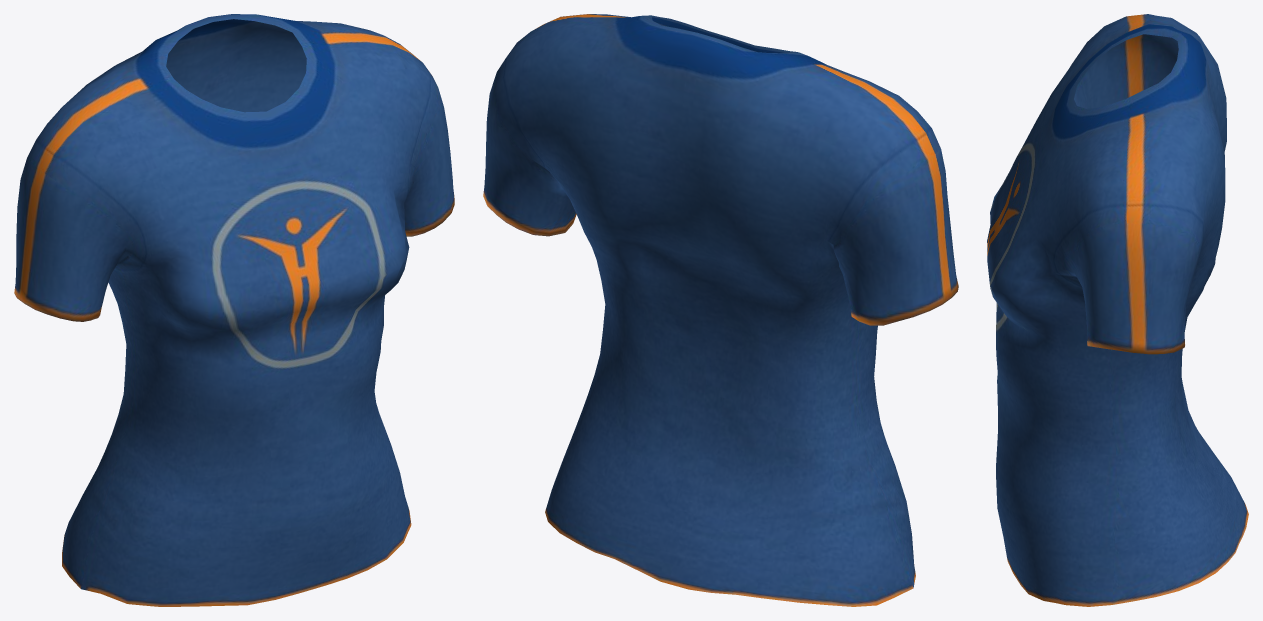
File: top_graphic_tee.gltf
The picture shows the model from 3 angles, left to right: view 1: azimuth 30°, elevation 25°; view 2: azimuth 150°, elevation 25°; view 3: azimuth 270°, elevation 25°; orthographic projection. The views are drawn at different scales.
Visible parts, largest first — view 1: top_graphic_tee; view 2: top_graphic_tee; view 3: top_graphic_tee.
Boxes of the visible parts, x1,y1,x2,y2 form: top_graphic_tee: [14, 14, 454, 606]; top_graphic_tee: [483, 14, 958, 606]; top_graphic_tee: [987, 14, 1248, 606].
Bounding box in the file's own units: 0.4503 × 0.5156 × 0.243.
Materials: 1 (1 with a texture image).
